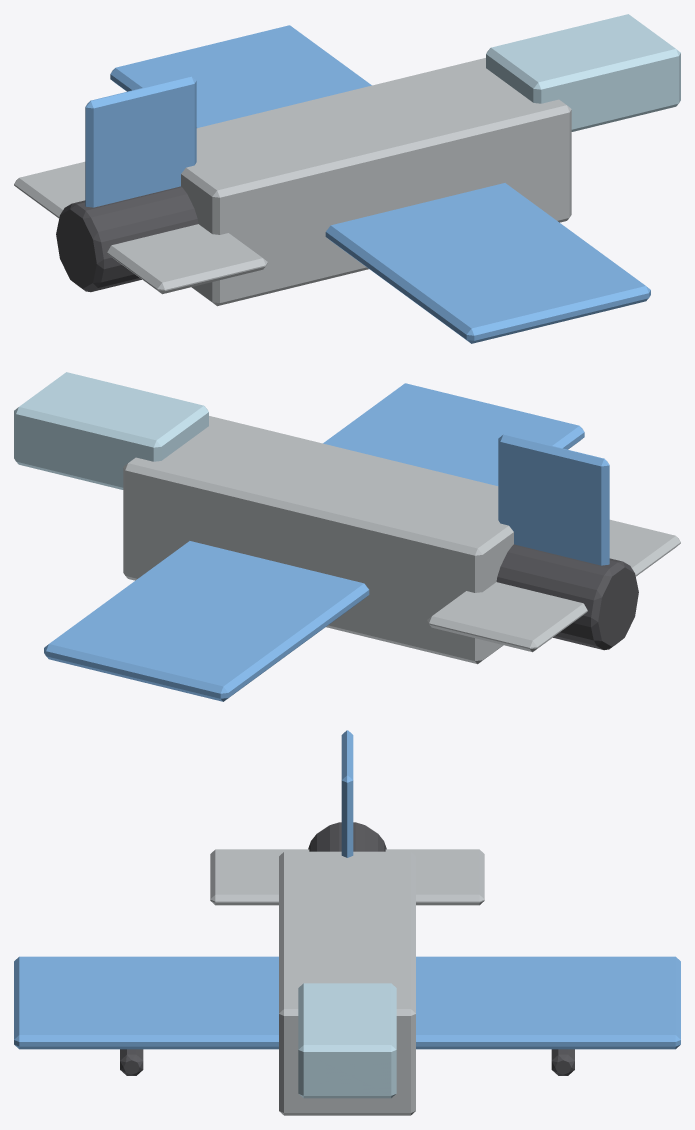
The model's file is vantage.glb.
3 renders of one model, top to bottom at view 1: azimuth 30°, elevation 25°; view 2: azimuth 150°, elevation 25°; view 3: azimuth 270°, elevation 25°, orthographic. The views are drawn at different scales.
Visible parts, largest first — view 1: coalition_vantage; view 2: coalition_vantage; view 3: coalition_vantage.
Boxes of the visible parts, x1,y1,x2,y2 form: coalition_vantage: [14, 14, 680, 343]; coalition_vantage: [14, 372, 680, 701]; coalition_vantage: [14, 730, 680, 1115].
Size of the model in its own units: 3.15 by 1.05 by 3.4.
